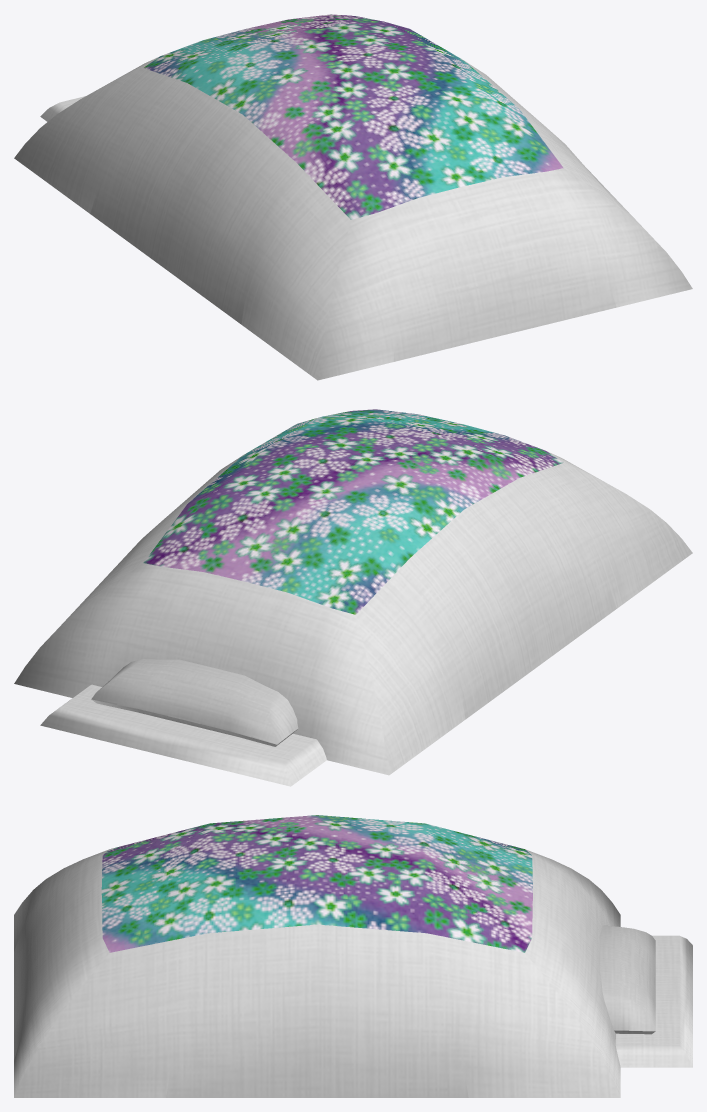
The model's file is 0910_futon.fbx.
The picture shows the model from 3 angles, top to bottom: view 1: azimuth 30°, elevation 25°; view 2: azimuth 150°, elevation 25°; view 3: azimuth 270°, elevation 25°; orthographic projection.
Parts seen in each view (by area): view 1: futon_set; view 2: futon_set; view 3: futon_set.
Boxes of the visible parts, box(x1,y1,x2,y2) form: futon_set: box(14, 14, 692, 380); futon_set: box(14, 409, 692, 786); futon_set: box(14, 815, 692, 1097).
Size of the model in its own units: 150 by 235 by 60.75.
Materials: 2 (2 with a texture image).
